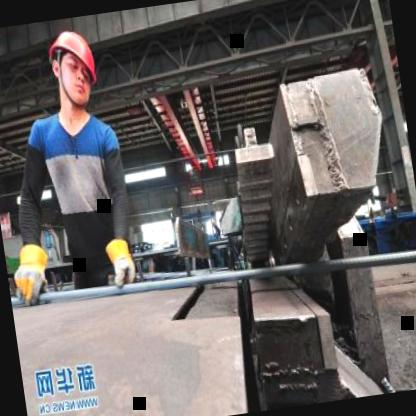helmet: (40, 18, 107, 117)
